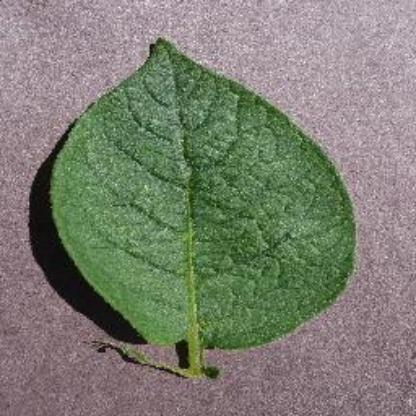Healthy-plant: (40, 34, 362, 390)
